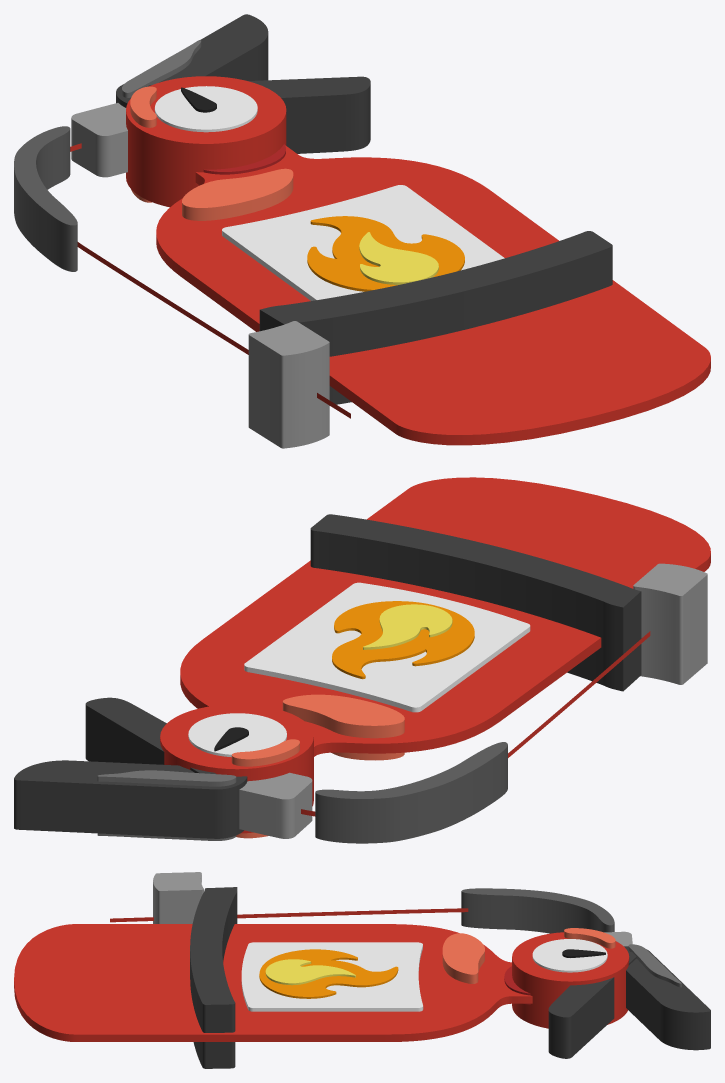
Rendered from emoji_u1f9ef.glb.
The picture shows the model from 3 angles, top to bottom: view 1: azimuth 30°, elevation 25°; view 2: azimuth 150°, elevation 25°; view 3: azimuth 270°, elevation 25°; orthographic projection. The views are drawn at different scales.
Visible parts, largest first — view 1: emoji_u1f9ef; view 2: emoji_u1f9ef; view 3: emoji_u1f9ef.
Part boxes in pixels (<box>): emoji_u1f9ef: <box>14,14,710,448</box>; emoji_u1f9ef: <box>14,477,710,843</box>; emoji_u1f9ef: <box>14,872,710,1068</box>.
Size of the model in its own units: 0.0151 by 0.0036 by 0.0335.
